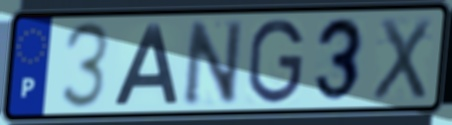3: (58, 19, 112, 113), (313, 13, 365, 107)
A: (110, 21, 181, 108)
G: (246, 16, 306, 107)
N: (182, 17, 246, 109)
X: (369, 15, 434, 103)
